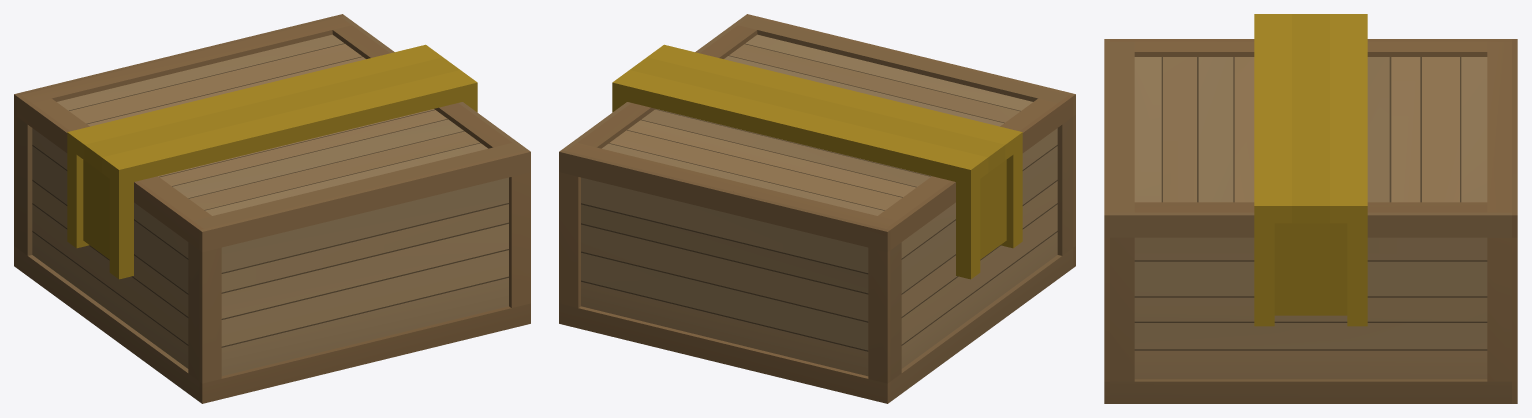
The model's file is crate.factory.steel_saddle.glb.
3 views of the same model, side by side, from view 1: azimuth 30°, elevation 25°; view 2: azimuth 150°, elevation 25°; view 3: azimuth 270°, elevation 25° (orthographic). The views are drawn at different scales.
Parts seen in each view (by area): view 1: crate_factory_steel_saddle; view 2: crate_factory_steel_saddle; view 3: crate_factory_steel_saddle.
Boxes of the visible parts, bbox=[...] form: crate_factory_steel_saddle: bbox=[14, 14, 530, 403]; crate_factory_steel_saddle: bbox=[559, 14, 1075, 403]; crate_factory_steel_saddle: bbox=[1104, 14, 1517, 403].
Size of what is drawn, in the model's own units: 2.4 by 1.2 by 2.18.
